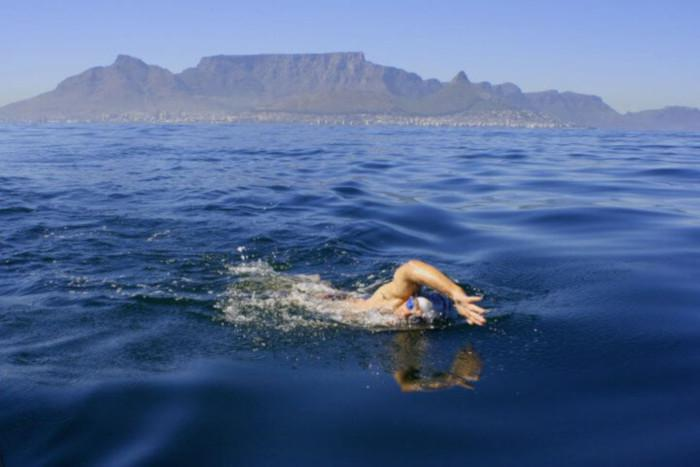swimmer: (285, 256, 488, 334)
